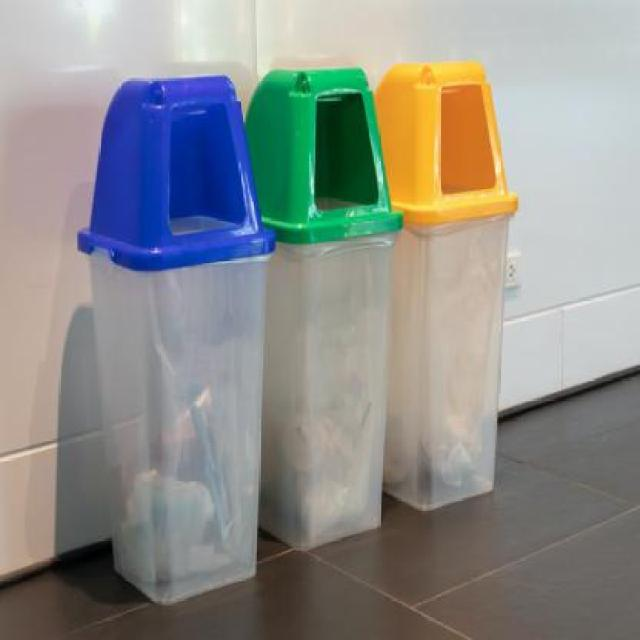garbage container: (71, 61, 278, 616), (240, 54, 408, 560), (373, 46, 524, 520)
